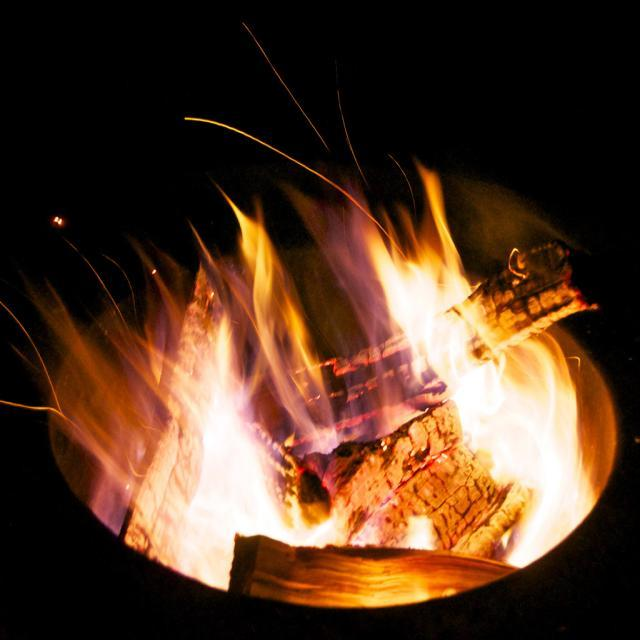Fire: (155, 326, 276, 554), (472, 356, 568, 514), (371, 220, 455, 320)
